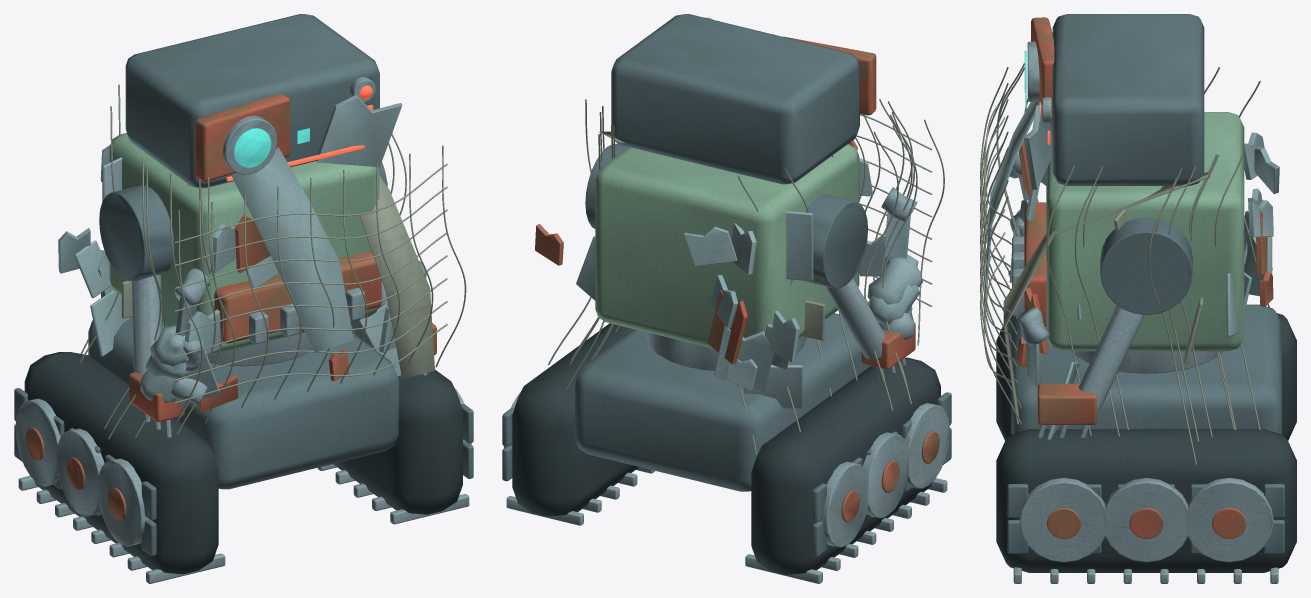
Rendered from TrashCleaner_A.glb.
3 renders of one model, left to right at view 1: azimuth 30°, elevation 25°; view 2: azimuth 150°, elevation 25°; view 3: azimuth 270°, elevation 25°, orthographic. The views are drawn at different scales.
Visible parts, largest first — view 1: VIS_CastIron, VIS_Rubber, VIS_CastIron.001, VIS_WetSteel, VIS_DirtyCanvas, VIS_ForestCeramic, VIS_WastePlastic, VIS_WastePlastic.001, VIS_RustSteel, VIS_RustSteel.001, VIS_WetSteel.001, VIS_OpticCyan (+1 smaller); view 2: VIS_CastIron, VIS_ForestCeramic, VIS_CastIron.001, VIS_Rubber, VIS_WastePlastic.001, VIS_WetSteel, VIS_DirtyCanvas, VIS_RustSteel, VIS_RustSteel.001; view 3: VIS_CastIron, VIS_CastIron.001, VIS_ForestCeramic, VIS_Rubber, VIS_WetSteel, VIS_DirtyCanvas, VIS_RustSteel, VIS_WastePlastic.001, VIS_WastePlastic, VIS_RustSteel.001, VIS_WetSteel.001.
Boxes of the visible parts, x1,y1,x2,y2 form: VIS_CastIron: (14, 162, 473, 556); VIS_Rubber: (24, 319, 462, 574); VIS_CastIron.001: (125, 14, 379, 187); VIS_WetSteel: (15, 261, 471, 583); VIS_DirtyCanvas: (79, 84, 466, 439); VIS_ForestCeramic: (109, 133, 379, 354); VIS_WastePlastic: (230, 94, 402, 352); VIS_WastePlastic.001: (58, 144, 400, 406); VIS_RustSteel: (26, 215, 436, 520); VIS_RustSteel.001: (195, 94, 290, 181); VIS_WetSteel.001: (223, 77, 375, 174); VIS_OpticCyan: (234, 128, 309, 167); VIS_CastIron: (502, 143, 951, 556); VIS_ForestCeramic: (595, 143, 859, 348); VIS_CastIron.001: (611, 14, 859, 184); VIS_Rubber: (512, 323, 940, 574); VIS_WastePlastic.001: (576, 158, 922, 408); VIS_WetSteel: (503, 187, 949, 583); VIS_DirtyCanvas: (548, 99, 944, 455); VIS_RustSteel: (535, 140, 939, 522); VIS_RustSteel.001: (783, 36, 876, 115); VIS_CastIron: (1007, 217, 1284, 553); VIS_CastIron.001: (1052, 14, 1204, 185); VIS_ForestCeramic: (1046, 112, 1244, 351); VIS_Rubber: (996, 313, 1296, 572); VIS_WetSteel: (1008, 153, 1278, 583); VIS_DirtyCanvas: (980, 63, 1270, 464); VIS_RustSteel: (1017, 140, 1273, 538); VIS_WastePlastic.001: (1009, 132, 1279, 439); VIS_WastePlastic: (984, 101, 1052, 308); VIS_RustSteel.001: (1031, 17, 1054, 119); VIS_WetSteel.001: (1027, 41, 1051, 122).
Bounding box in the file's own units: 1.19 × 1.52 × 0.9594.
Materials: 10 (10 with a texture image).
